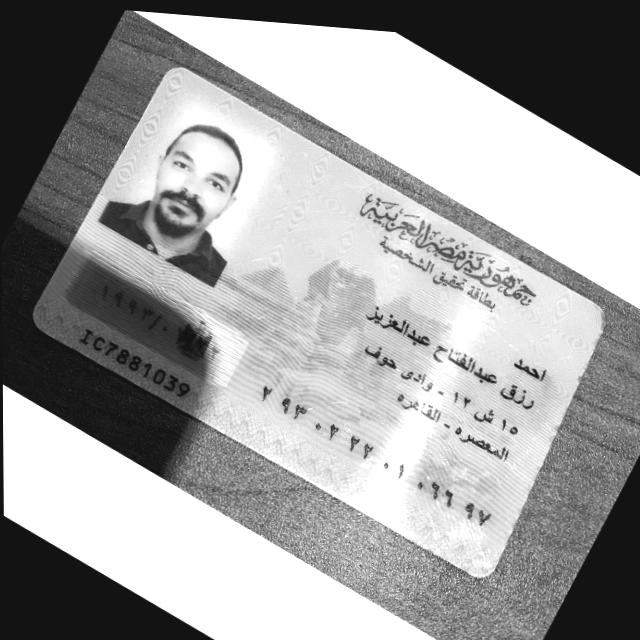front: (33, 66, 606, 575)
